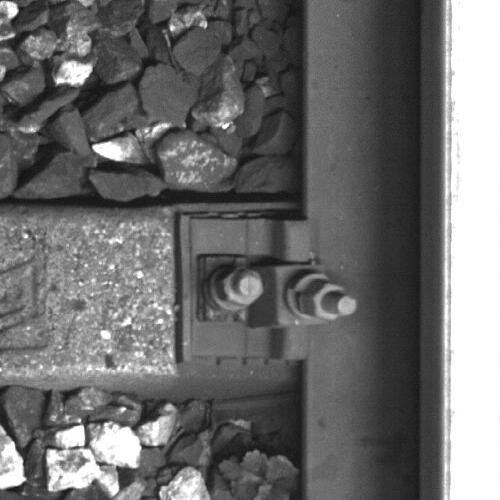kb: (192, 221, 359, 358)
nut: (298, 278, 359, 323), (214, 266, 265, 308)
rail: (442, 1, 500, 500)
tie_concr: (1, 210, 310, 363)
